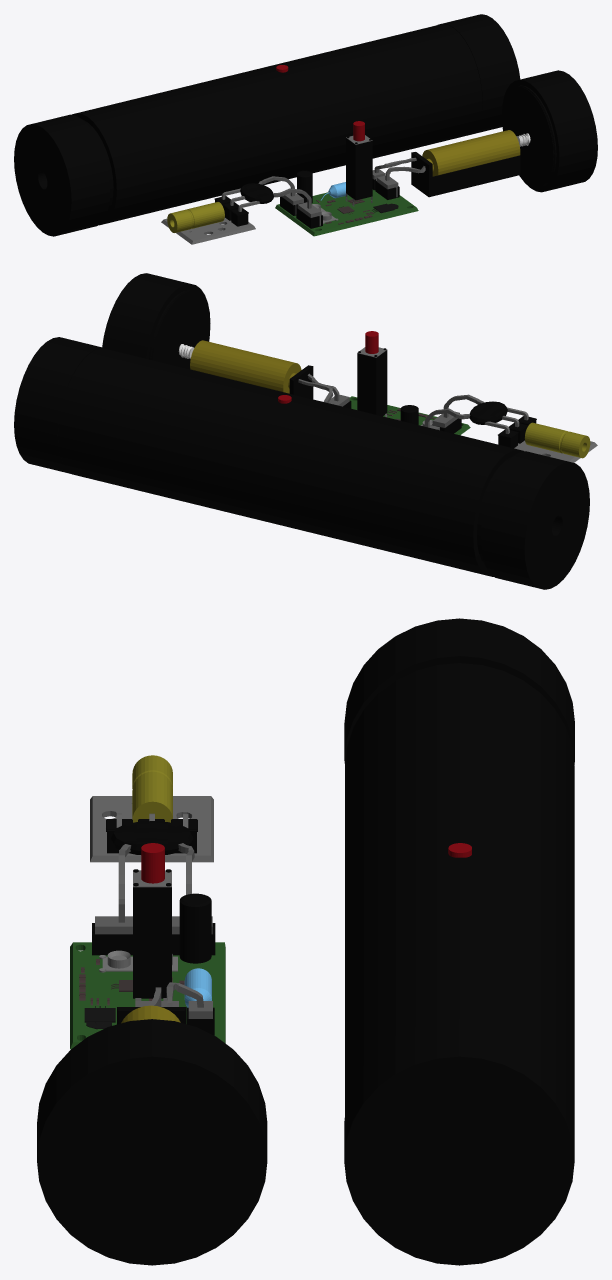
Rendered from OBJ-laser_module_board.glb.
The picture shows the model from 3 angles, top to bottom: view 1: azimuth 30°, elevation 25°; view 2: azimuth 150°, elevation 25°; view 3: azimuth 270°, elevation 25°; orthographic projection. The views are drawn at different scales.
Size of the model in its own units: 0.12 by 0.0272 by 0.0622.
